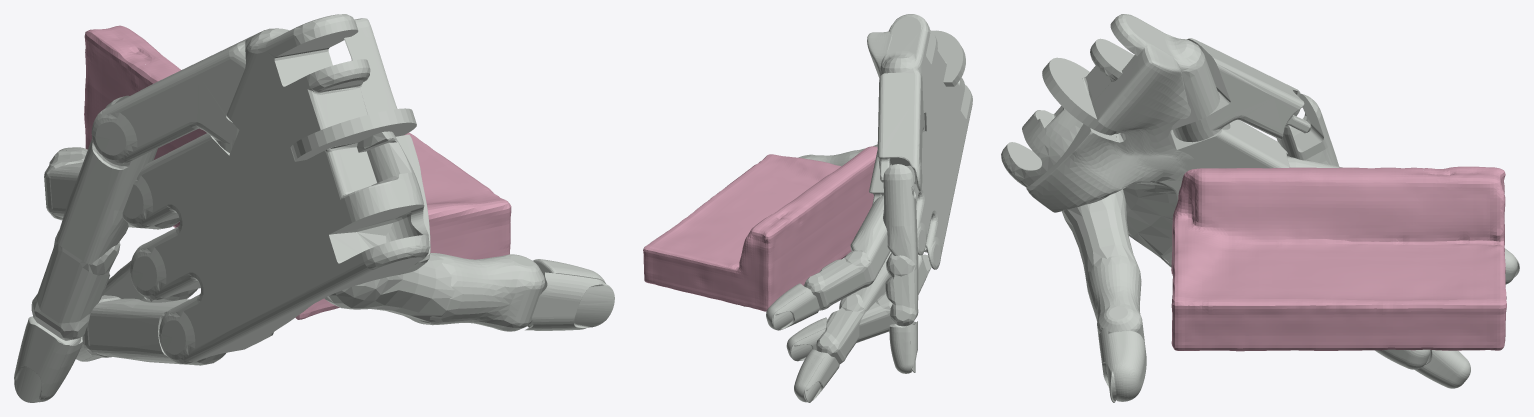
3 views of the same model, side by side, from view 1: azimuth 30°, elevation 25°; view 2: azimuth 150°, elevation 25°; view 3: azimuth 270°, elevation 25° (orthographic). The views are drawn at different scales.
Parts seen in each view (by area): view 1: hand_isaac_q, world; view 2: hand_isaac_q, world; view 3: world, hand_isaac_q.
Boxes of the visible parts, x1=… form: hand_isaac_q: x1=14, y1=14, x2=614, y2=402; world: x1=84, y1=25, x2=511, y2=319; hand_isaac_q: x1=766, y1=14, x2=972, y2=402; world: x1=643, y1=146, x2=877, y2=311; world: x1=1171, y1=166, x2=1506, y2=351; hand_isaac_q: x1=1001, y1=14, x2=1519, y2=402.
Size of the model in its own units: 0.1532 by 0.166 by 0.2047.
